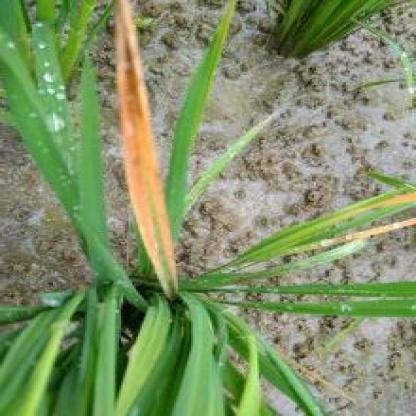Tungro: (118, 2, 179, 291)
